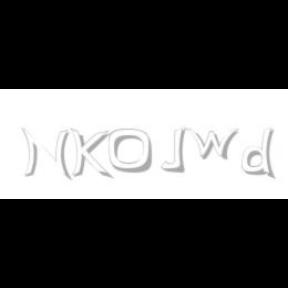J: (160, 128, 186, 172)
K: (70, 128, 110, 180)
N: (20, 128, 70, 180)
O: (108, 128, 154, 174)
d: (242, 128, 278, 180)
w: (184, 128, 244, 160)
